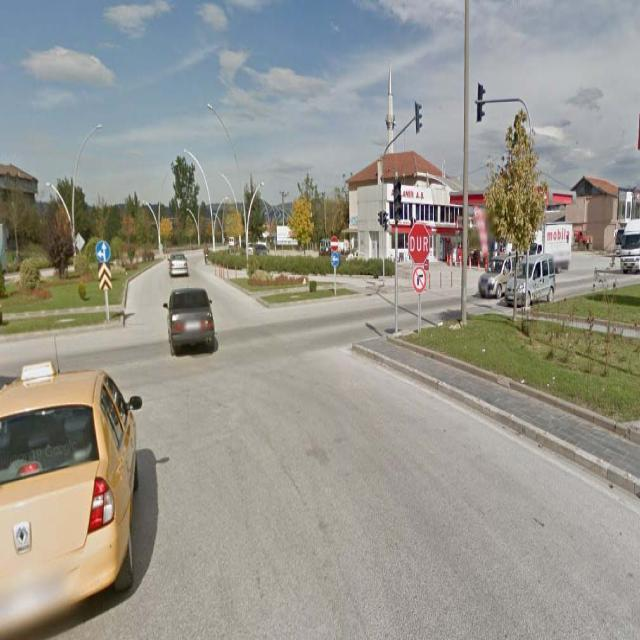dur: (407, 224, 430, 265)
girisyok: (330, 236, 338, 251)
ilerisol: (96, 241, 110, 262)
sagadonulmez: (412, 265, 426, 294)
sol: (330, 253, 339, 266)
